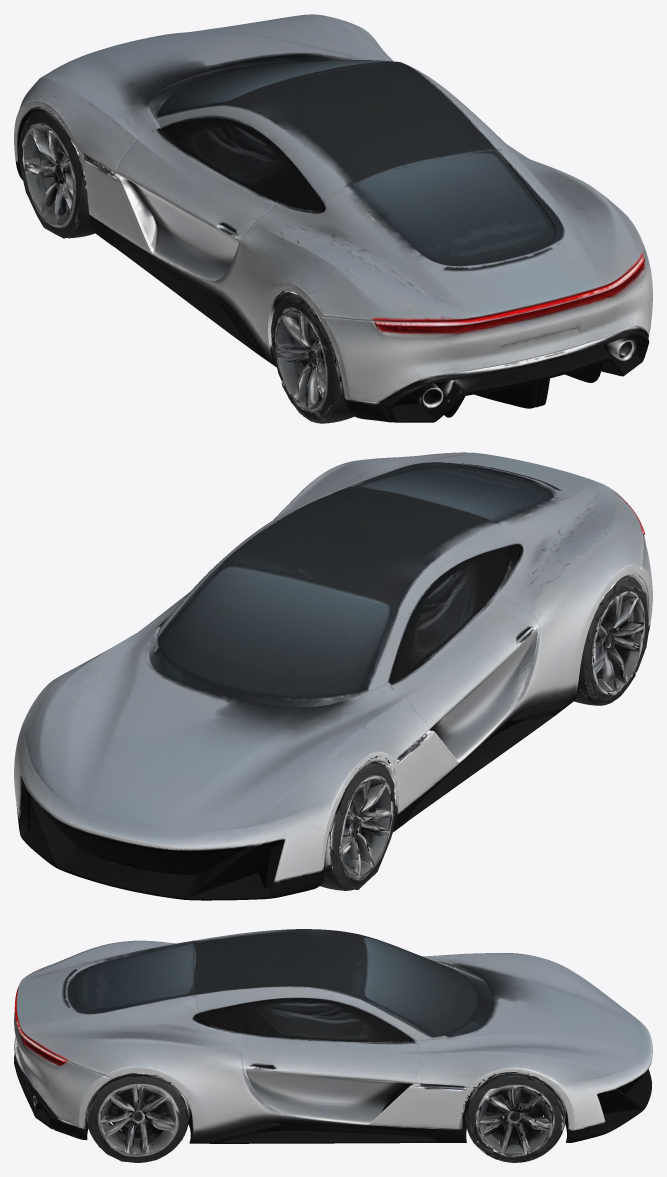
Rendered from roadster_hi.glb.
3 views of the same model, one above another, from view 1: azimuth 30°, elevation 25°; view 2: azimuth 150°, elevation 25°; view 3: azimuth 270°, elevation 25° (orthographic). The views are drawn at different scales.
Visible parts, largest first — view 1: body, wheel_FL, wheel_RL; view 2: body, wheel_FL, wheel_RL; view 3: body, wheel_RR, wheel_FR.
Part boxes in pixels (x1,y1,x2,y2): body: (14, 14, 652, 423); wheel_FL: (17, 107, 92, 238); wheel_RL: (271, 291, 341, 421); body: (14, 452, 652, 900); wheel_FL: (329, 756, 397, 889); wheel_RL: (578, 574, 648, 705); body: (14, 929, 652, 1162); wheel_RR: (88, 1073, 189, 1162); wheel_FR: (462, 1071, 563, 1162).
Bounding box in the file's own units: 1.83 × 1.12 × 4.2.
1 material, 1 textured.
